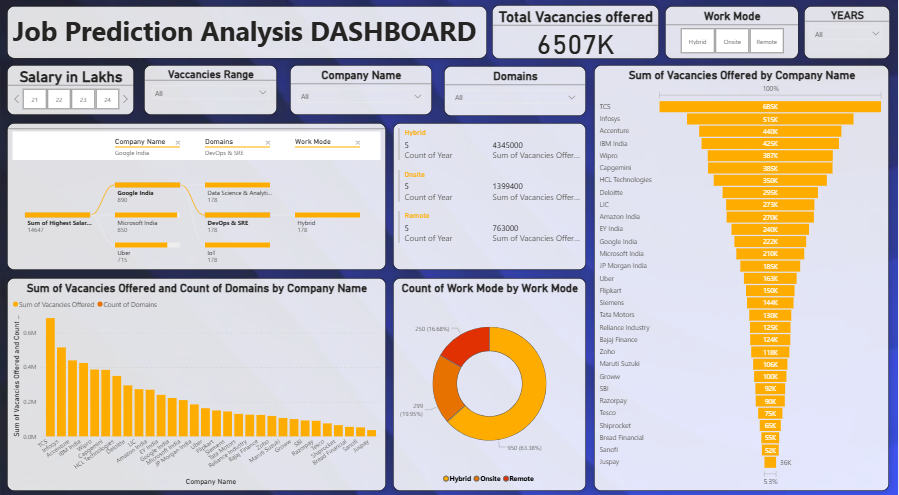

Layout of this report page (visuals, bound fields, positions):
{"tool":"powerbi","page":{"name":"Page 1","canvas":[1800,1000],"ordinal":0},"visuals":[{"type":"card","title":"Total Vacancies offered","fields":{"Values":["Sum(Sheet2.Vacancies Offered)"]},"box":[988,16,334,108],"z":0},{"type":"textbox","box":[17.5,17.5,960,105],"z":1000},{"type":"slicer","title":"YEARS","fields":{"Values":["Sheet2.Year"]},"box":[1612,18,172,106],"z":2000},{"type":"slicer","title":"Salary in Lakhs","fields":{"Values":["Sheet2.Highest Salary (INR LPA)"]},"box":[18,136,254,100],"z":3000},{"type":"donutChart","fields":{"Category":["Sheet2.Work Mode"],"Y":["CountNonNull(Sheet2.Work Mode)"]},"box":[790,562,386,426],"z":4000},{"type":"slicer","title":"Work Mode","fields":{"Values":["Sheet2.Work Mode"]},"box":[1333.5,17.4,267.1,106.5],"z":5000},{"type":"slicer","title":"Company Name","fields":{"Values":["Sheet2.Company Name"]},"box":[584,136,284,100],"z":6000},{"type":"funnel","fields":{"Category":["Sheet2.Company Name"],"Y":["Sum(Sheet2.Vacancies Offered)"]},"box":[1192,136,590,852],"z":7000},{"type":"multiRowCard","fields":{"Values":["Count(Sheet2.Year)","Sheet2.Work Mode","Sum(Sheet2.Vacancies Offered)"]},"box":[790,252,386,294],"z":8000},{"type":"slicer","title":"Domains","fields":{"Values":["Sheet2.Domains"]},"box":[892,138,284,100],"z":9000},{"type":"lineStackedColumnComboChart","fields":{"Y":["Sum(Sheet2.Vacancies Offered)","Count(Sheet2.Domains)"],"Category":["Sheet2.Company Name"]},"box":[18,562,758,426],"z":10000},{"type":"slicer","title":"Vaccancies Range","fields":{"Values":["Sheet2.Vacancies Offered"]},"box":[292,136,266,100],"z":10001},{"type":"decompositionTreeVisual","fields":{"ExplainBy":["Sheet2.Company Name","Sheet2.Domains","Sheet2.Work Mode"],"Analyze":["Sum(Sheet2.Highest Salary (INR LPA))"]},"box":[18,252,758,294],"z":10002}]}

Visuals, with their boxes in screenshot pixels (x1, y1, x2, y2), scaled from the page's 1800x1000 canvas onto the 899x495 screenshot:
"Total Vacancies offered" card: rect(493, 8, 660, 61)
textbox: rect(9, 9, 488, 61)
"YEARS" slicer: rect(805, 9, 891, 61)
"Salary in Lakhs" slicer: rect(9, 67, 136, 117)
donutChart - Sheet2.Work Mode x CountNonNull(Sheet2.Work Mode): rect(395, 278, 587, 489)
"Work Mode" slicer: rect(666, 9, 799, 61)
"Company Name" slicer: rect(292, 67, 434, 117)
funnel - Sheet2.Company Name x Sum(Sheet2.Vacancies Offered): rect(595, 67, 890, 489)
multiRowCard - Count(Sheet2.Year) x Sheet2.Work Mode: rect(395, 125, 587, 270)
"Domains" slicer: rect(446, 68, 587, 118)
lineStackedColumnComboChart - Sum(Sheet2.Vacancies Offered) x Count(Sheet2.Domains): rect(9, 278, 388, 489)
"Vaccancies Range" slicer: rect(146, 67, 279, 117)
decompositionTreeVisual - Sheet2.Company Name x Sheet2.Domains: rect(9, 125, 388, 270)
